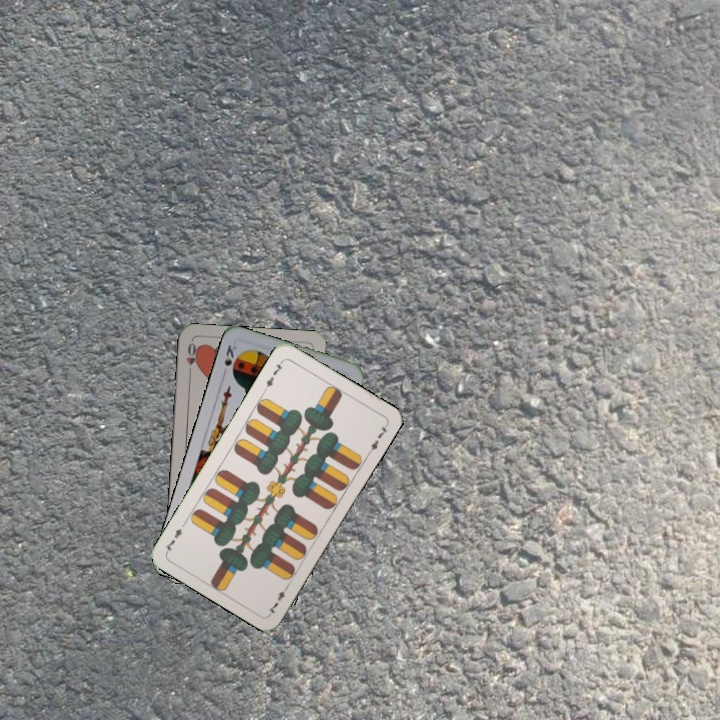E7: (264, 580, 292, 617), (260, 356, 286, 393)
HO: (182, 339, 200, 379)
SK: (220, 341, 241, 379)
